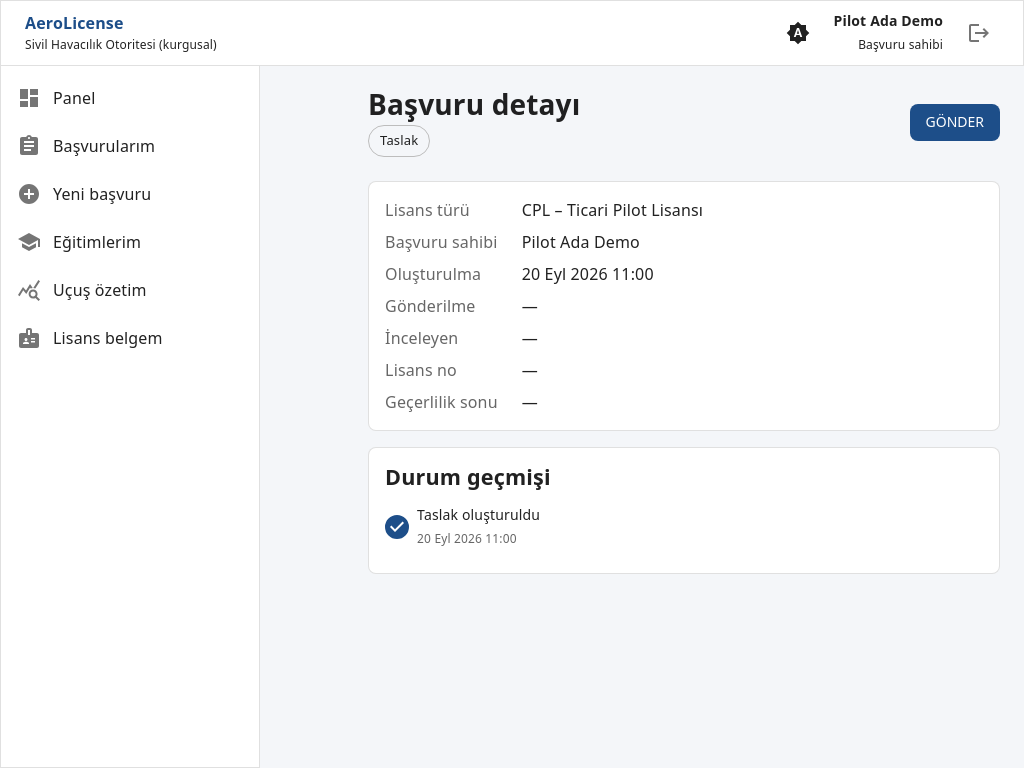
it: Başvuru detayı (pilot) › taslak gönderilince bildirim görünür, durum ve zaman çizelgesi güncellenir
Step 1. Click the button "Gönder" → (955, 122), box [910,104,1000,141]
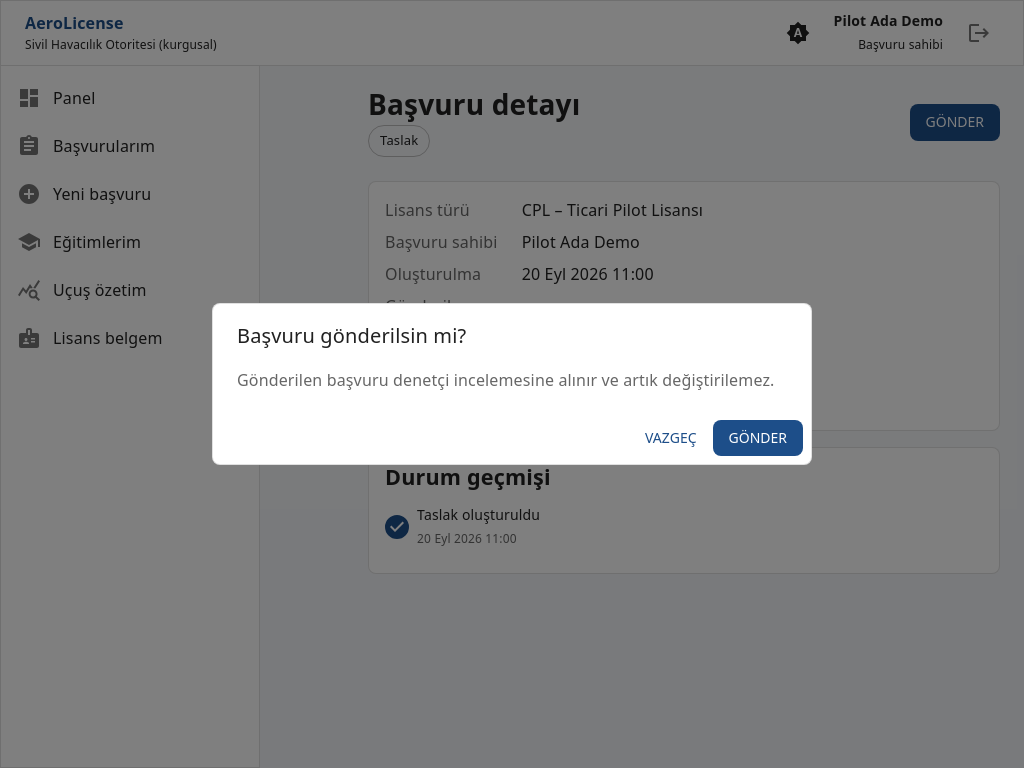
Step 2. Click the button "Gönder" → (758, 438), box [712,420,803,456]
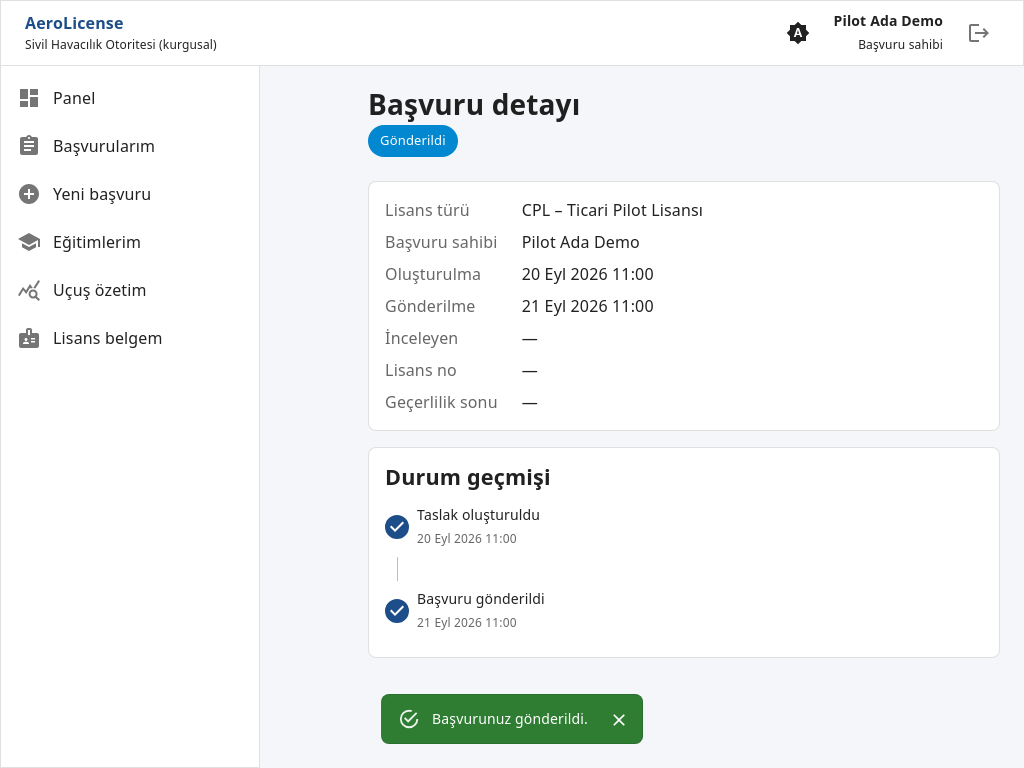
Expected: the text "Başvurunuz gönderildi." is shown, [432,709,588,728]
Expected: the text "Başvuru gönderildi" is shown, [417,589,545,608]
